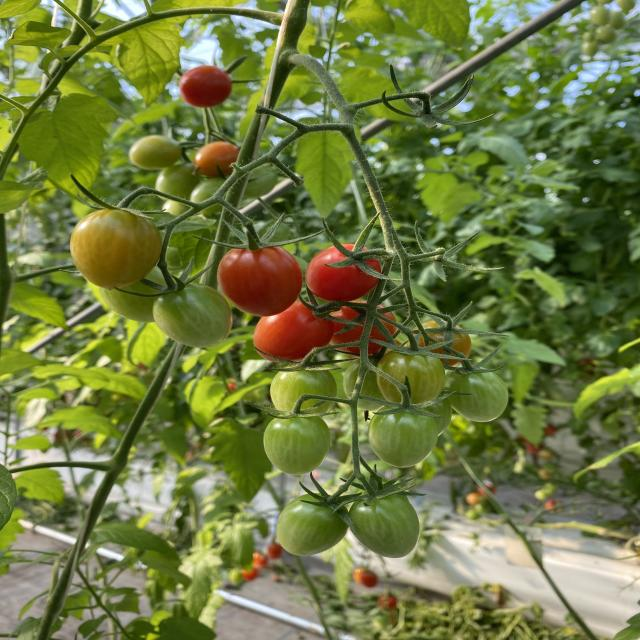c-half-riped: (408, 320, 472, 370), (194, 142, 240, 177)
c-riped: (217, 241, 302, 317), (253, 302, 335, 364), (305, 243, 383, 304), (330, 300, 398, 357), (180, 64, 234, 108)
c-unriped: (71, 208, 164, 291), (152, 282, 232, 348), (275, 492, 350, 556), (368, 402, 439, 468), (348, 496, 419, 559), (99, 266, 178, 322), (264, 410, 332, 474), (376, 347, 446, 407), (270, 361, 338, 418), (444, 365, 510, 423), (343, 356, 388, 412), (154, 162, 203, 200), (130, 136, 184, 169), (428, 392, 452, 437)
